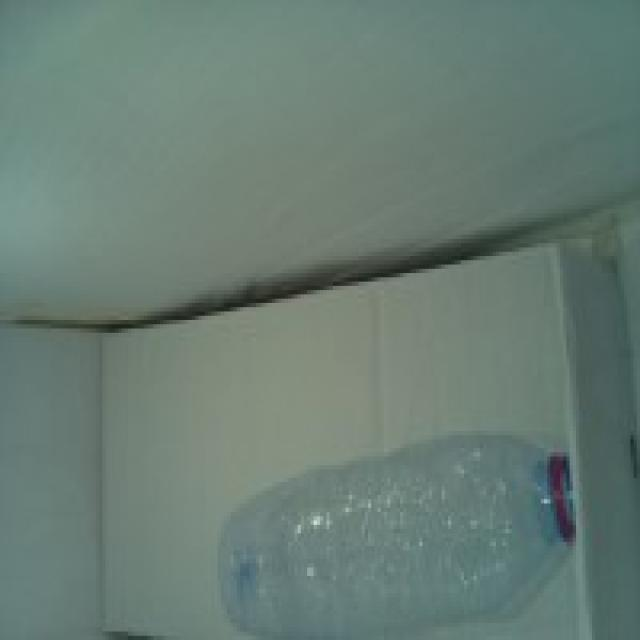Anorganik: (220, 435, 570, 623)
